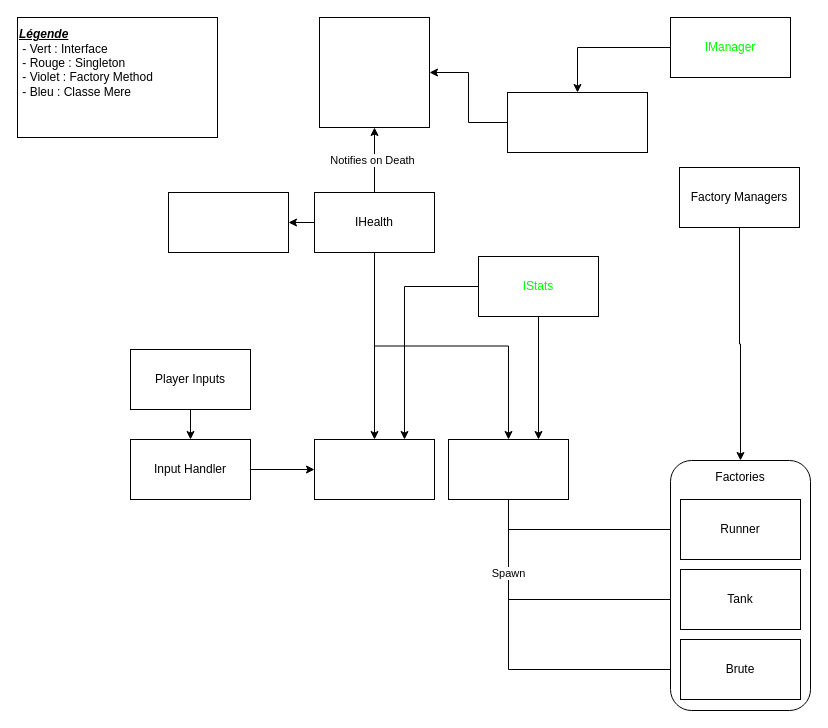
Image size: 828x728. Some labels were removed from this diagram. The centre of each missing label's shape, as x and y in pixels:
GameManager: the point at 374,72
Minions: the point at 508,469
Object breakable in Scene: the point at 228,222
Player: the point at 374,469
SingletonManager<T>: the point at 577,122
